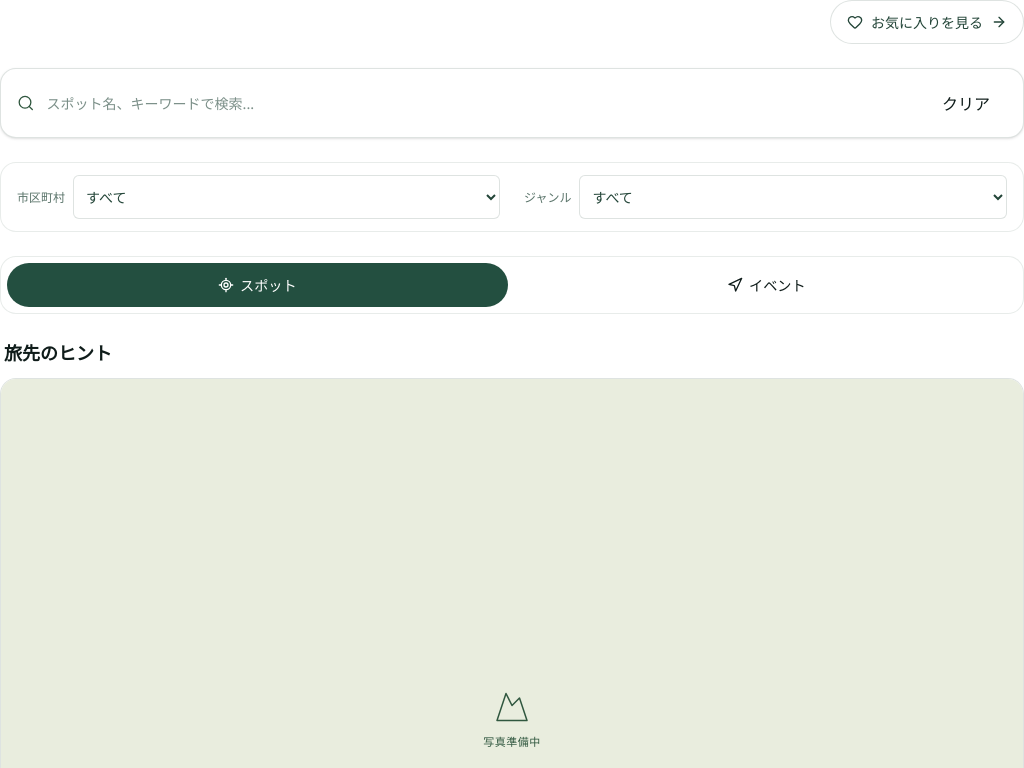
SearchSurface › groups event results into upcoming and past sections and clears genre filters
The width and height of the screenshot is (1024, 768).
Select "自然" in the dropdown labelled "ジャンル" at [793, 197], box [579,175,1007,219]
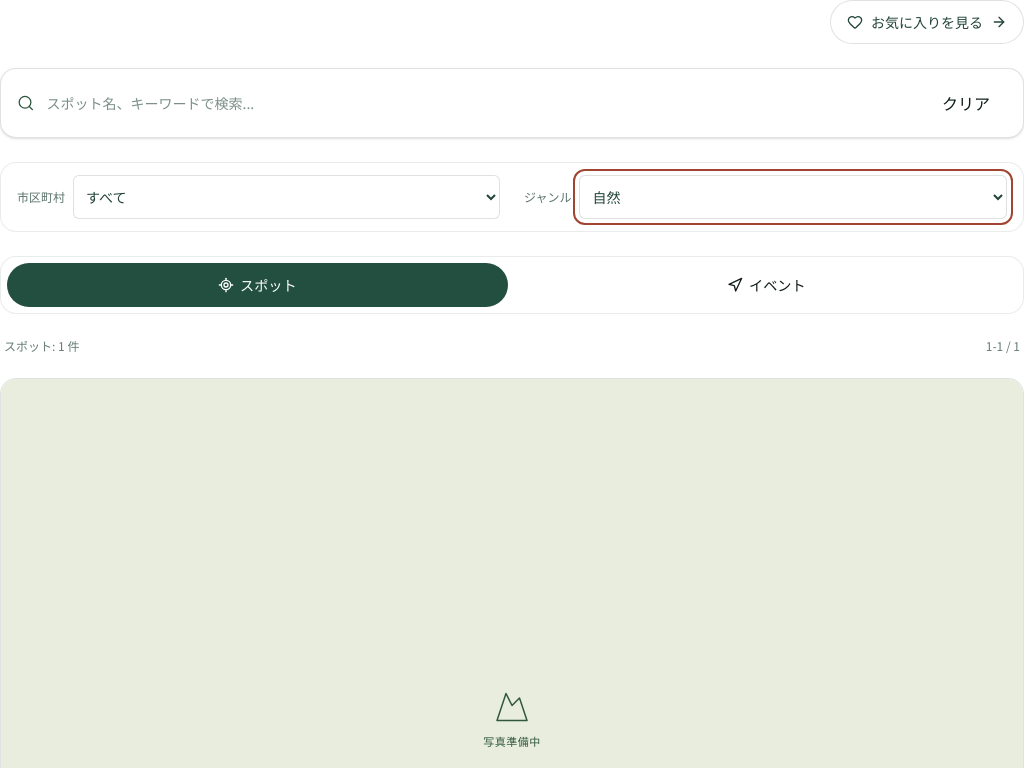
Click the button "イベント" at [766, 285], box [516,263,1017,307]
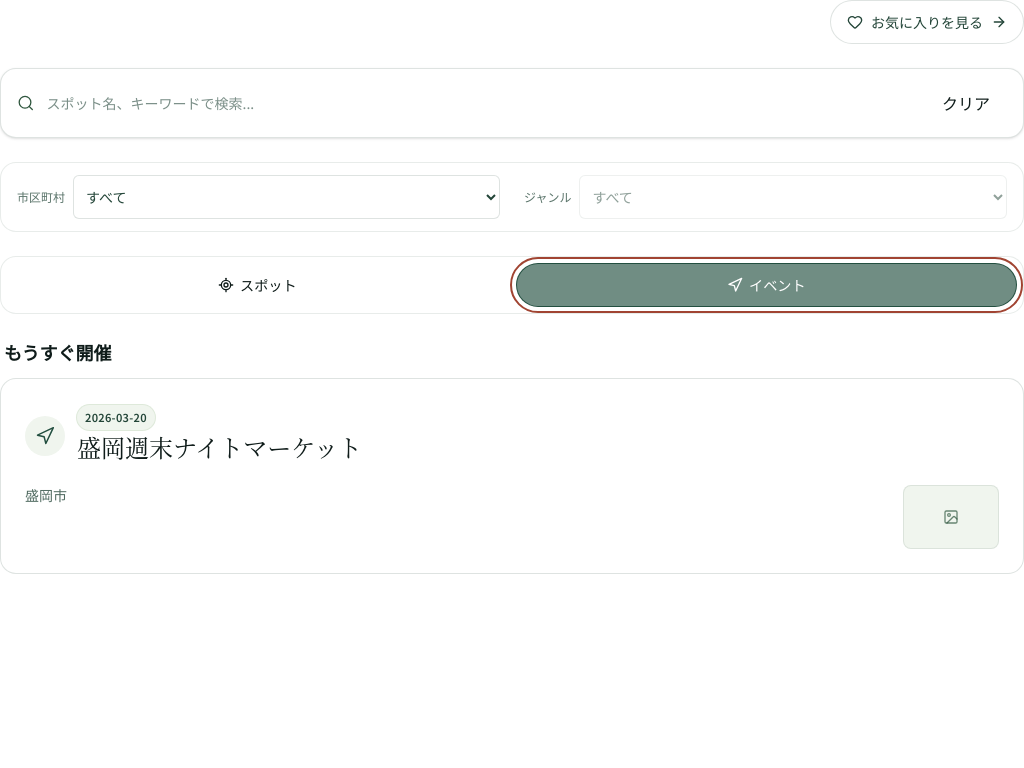
Now the dropdown labelled "ジャンル" is disabled, box [579,175,1007,219]
Type "イベント" into the field with placeholder "スポット名、キーワードで検索..." at [480, 103], box [46,93,913,113]
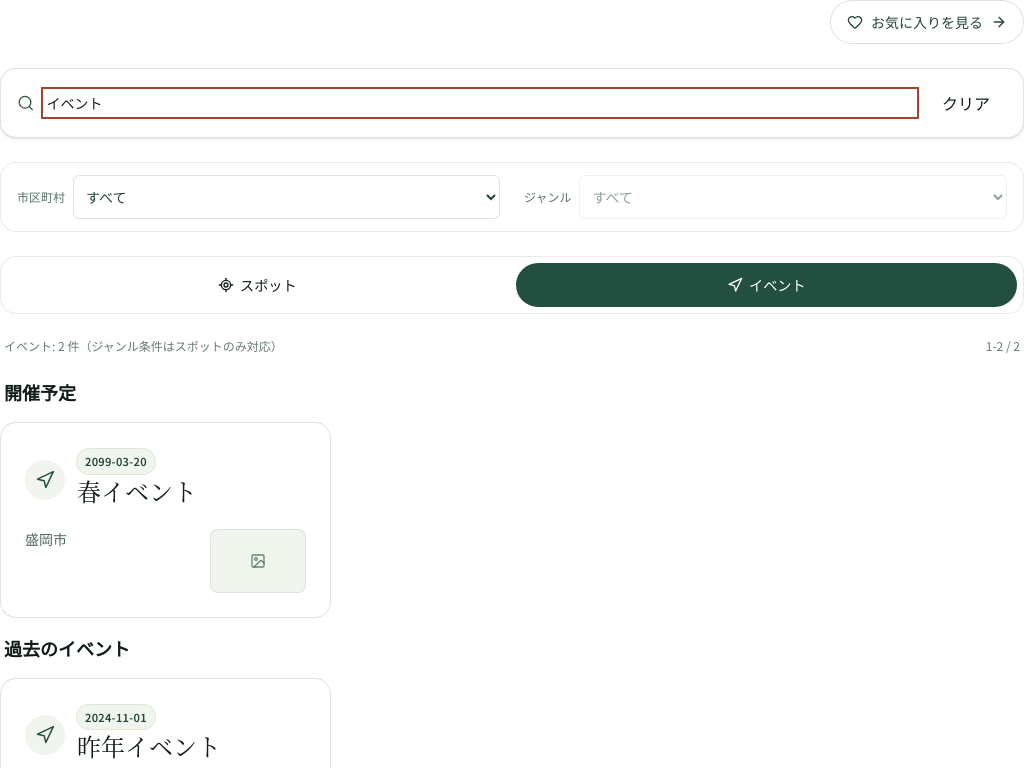
Now the heading "開催予定" is shown, box [4,379,76,405]
Now the heading "過去のイベント" is shown, box [4,634,130,660]
Now the heading "春イベント" is shown, box [77,474,197,512]
